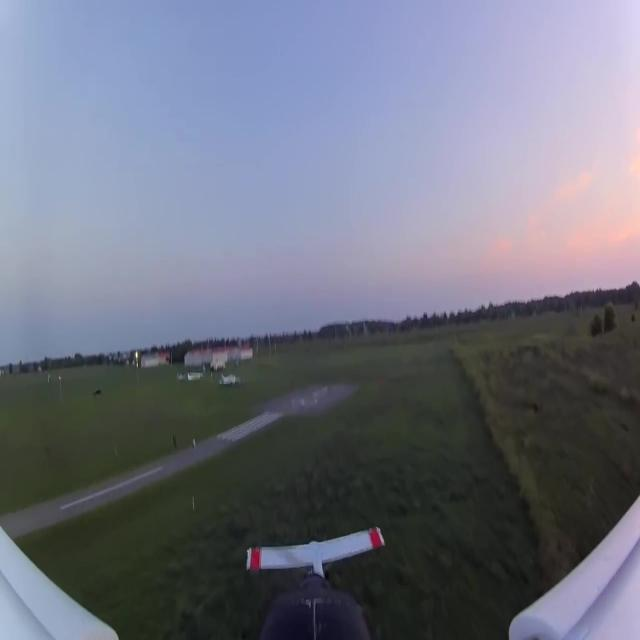iha: (247, 524, 381, 586)
